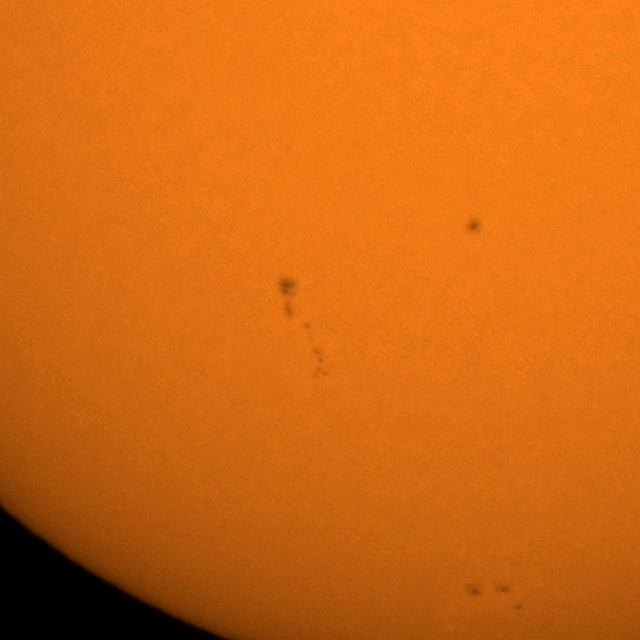sunspot: (274, 264, 305, 326), (504, 589, 537, 615), (461, 576, 488, 598), (495, 572, 516, 598), (315, 352, 329, 378), (465, 218, 482, 236)
